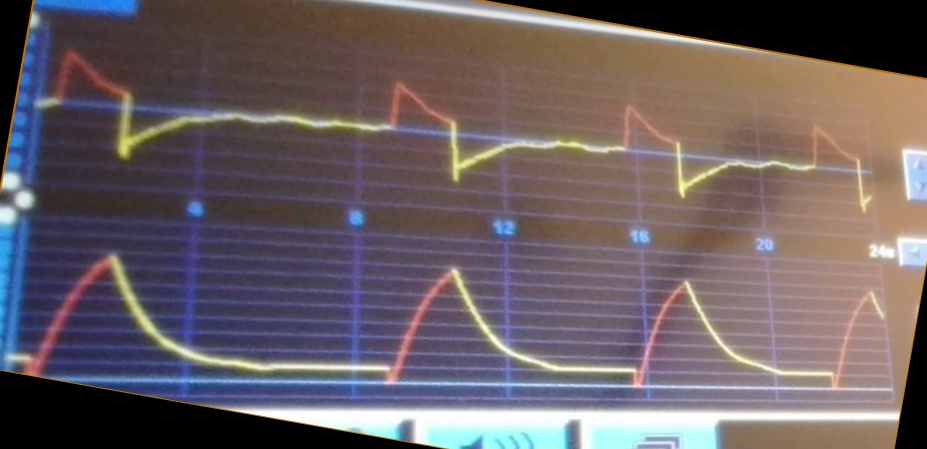Flow: (43, 51, 875, 214)
Leakage Volume: (16, 254, 882, 400)
